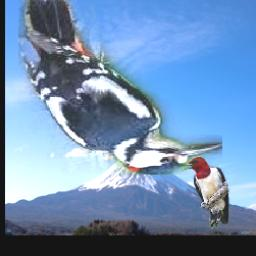Woodpecker: (18, 0, 222, 175), (178, 156, 231, 229)
